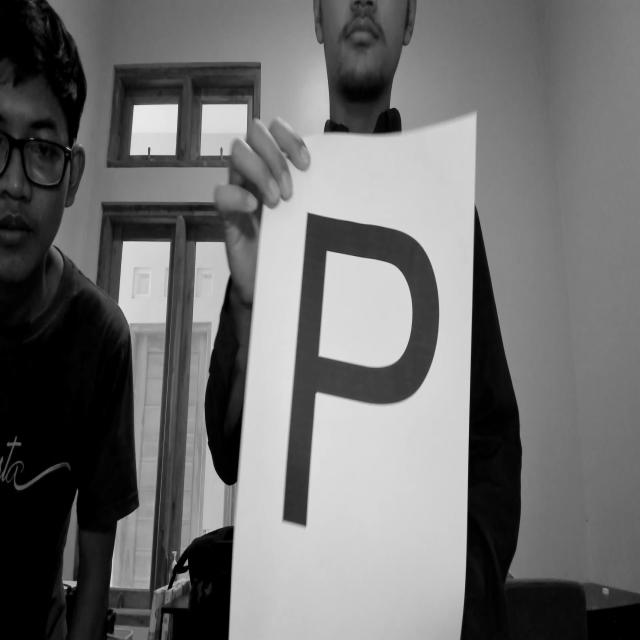p: (275, 191, 450, 587)
